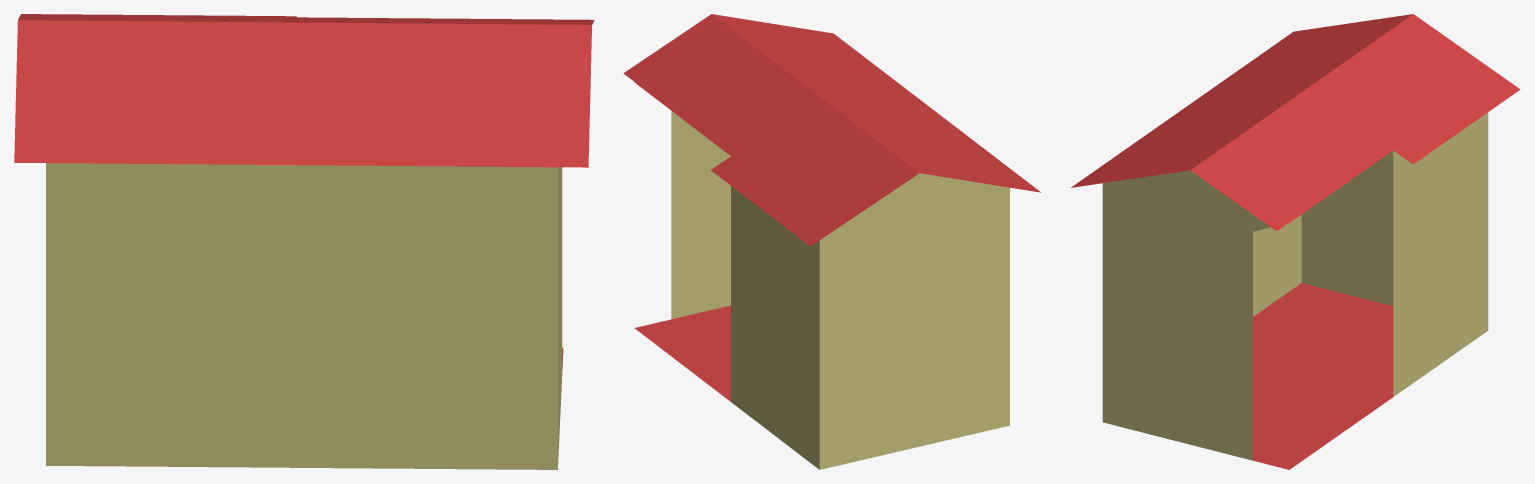
3 renders of one model, left to right at view 1: azimuth 30°, elevation 25°; view 2: azimuth 150°, elevation 25°; view 3: azimuth 270°, elevation 25°, orthographic. The views are drawn at different scales.
Bounding box in the file's own units: 15.79 × 14.37 × 10.07.
